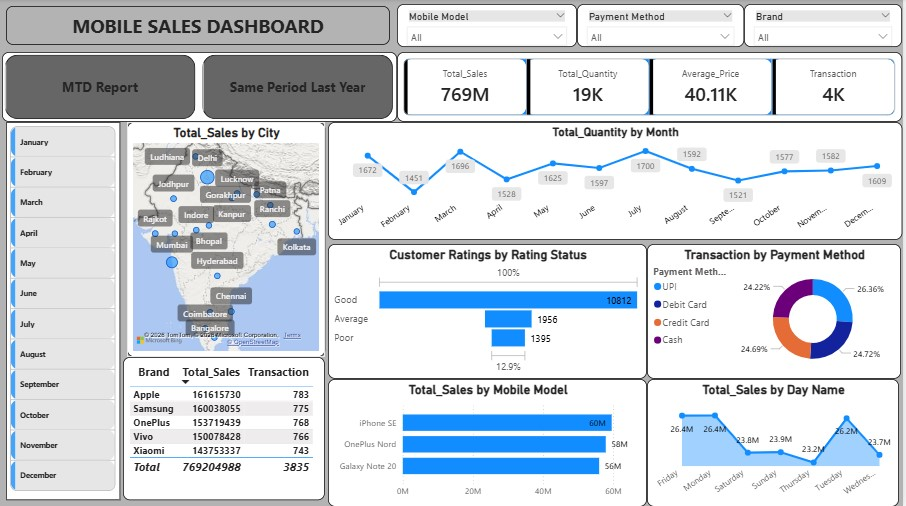

What the dashboard file says about the page in this screenshot:
{"tool":"powerbi","page":{"name":"Dashboard","canvas":[1280,720],"ordinal":0},"visuals":[{"type":"textbox","box":[9.9,9.9,544.3,55.3],"z":0},{"type":"advancedSlicerVisual","fields":{"Values":["Custom_Calendar.Date.Variation.Date Hierarchy.Month"]},"box":[9.9,174.3,161.6,535.7],"z":1000},{"type":"cardVisual","fields":{"Data":["Sales_Data.Total_Sales","Sales_Data.Total_Quantity","Sales_Data.Average_Price","Sales_Data.Transaction"]},"box":[564.1,75.1,715.7,99.2],"z":2000},{"type":"slicer","fields":{"Values":["Sales_Data.Mobile Model"]},"box":[564.1,7.1,255.1,60.9],"z":3000},{"type":"slicer","fields":{"Values":["Sales_Data.Payment Method"]},"box":[819.2,7.1,236.7,60.9],"z":4000},{"type":"slicer","fields":{"Values":["Sales_Data.Brand"]},"box":[1055.9,7.1,223.9,60.9],"z":5000},{"type":"map","fields":{"Category":["Sales_Data.City"],"Size":["Sales_Data.Total_Sales"]},"box":[181.4,174.3,280.6,333.1],"z":6000},{"type":"lineChart","fields":{"Category":["Custom_Calendar.Date.Variation.Date Hierarchy.Month"],"Y":["Sales_Data.Total_Quantity"]},"box":[466.3,174.3,813.5,167.2],"z":7000},{"type":"funnel","title":"Customer Ratings by Rating Status","fields":{"Y":["Sum(Sales_Data.Customer Ratings)"],"Category":["Sales_Data.Rating Status"]},"box":[466.3,347.2,452.1,191.3],"z":8000},{"type":"donutChart","fields":{"Y":["Sales_Data.Transaction"],"Category":["Sales_Data.Payment Method"]},"box":[918.4,347.2,360,191.3],"z":9000},{"type":"clusteredBarChart","fields":{"Y":["Sales_Data.Total_Sales"],"Category":["Sales_Data.Mobile Model"]},"box":[466.3,538.6,452.1,181.4],"z":10000},{"type":"areaChart","fields":{"Category":["Custom_Calendar.Day Name"],"Y":["Sales_Data.Total_Sales"]},"box":[918.4,538.6,357.2,181.4],"z":11000},{"type":"tableEx","fields":{"Values":["Sales_Data.Brand","Sales_Data.Total_Sales","Sales_Data.Transaction"]},"box":[175.7,507.4,286.3,202.7],"z":12000},{"type":"pageNavigator","box":[4.3,75.1,559.8,99.2],"z":13000}]}

Visuals, with their boxes in screenshot pixels (x1, y1, x2, y2), scaled from the page's 1280x720 canvas onto the 906x506 screenshot:
textbox: <box>7,7,392,46</box>
advancedSlicerVisual - Custom_Calendar.Date.Variation.Date Hierarchy.Month: <box>7,122,121,499</box>
cardVisual - Sales_Data.Total_Sales x Sales_Data.Total_Quantity: <box>399,53,905,122</box>
slicer - Sales_Data.Mobile Model: <box>399,5,580,48</box>
slicer - Sales_Data.Payment Method: <box>580,5,747,48</box>
slicer - Sales_Data.Brand: <box>747,5,905,48</box>
map - Sales_Data.City x Sales_Data.Total_Sales: <box>128,122,327,357</box>
lineChart - Custom_Calendar.Date.Variation.Date Hierarchy.Month x Sales_Data.Total_Quantity: <box>330,122,905,240</box>
"Customer Ratings by Rating Status" funnel: <box>330,244,650,378</box>
donutChart - Sales_Data.Transaction x Sales_Data.Payment Method: <box>650,244,905,378</box>
clusteredBarChart - Sales_Data.Total_Sales x Sales_Data.Mobile Model: <box>330,379,650,505</box>
areaChart - Custom_Calendar.Day Name x Sales_Data.Total_Sales: <box>650,379,903,505</box>
tableEx - Sales_Data.Brand x Sales_Data.Total_Sales: <box>124,357,327,499</box>
pageNavigator: <box>3,53,399,122</box>
